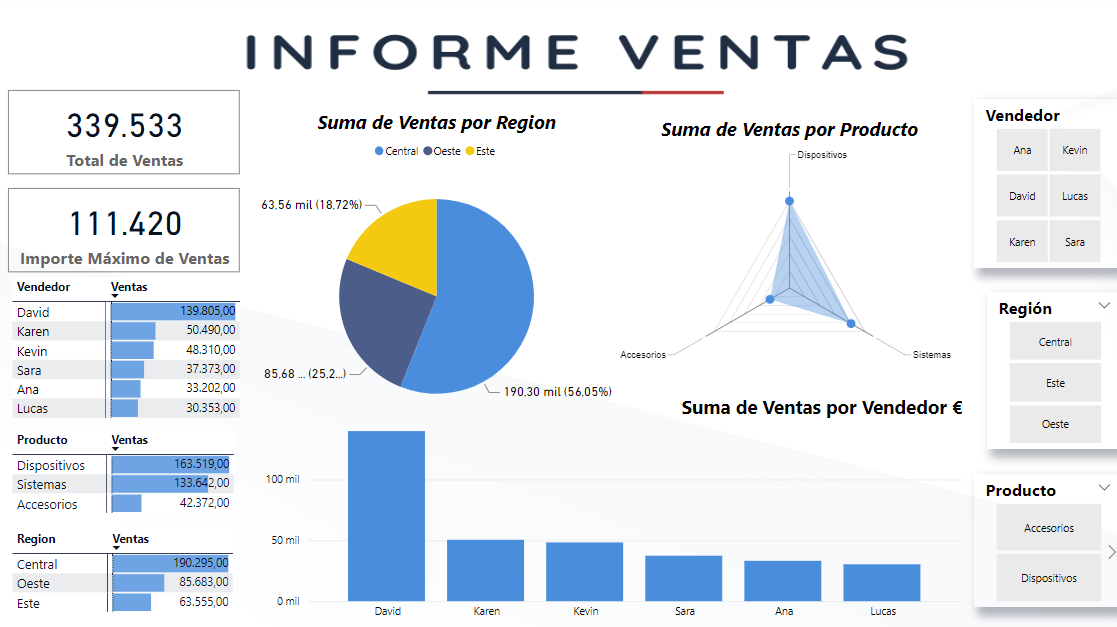

What the dashboard file says about the page in this screenshot:
{"tool":"powerbi","page":{"name":"InformeVentas","canvas":[1280,720],"ordinal":0},"visuals":[{"type":"pivotTable","fields":{"Rows":["Ventas_registro.Producto"],"Values":["Sum(Ventas_registro.Ventas)"]},"box":[11,490.3,264,109.5],"z":0},{"type":"slicer","fields":{"Values":["Ventas_registro.Vendedor"]},"box":[1111.9,117.3,168.6,184.6],"z":1000},{"type":"slicer","fields":{"Values":["Ventas_registro.Producto"]},"box":[1111.9,544.6,168.6,151.5],"z":2000},{"type":"slicer","fields":{"Values":["Ventas_registro.Region"]},"box":[1126.7,337.2,153.8,178.9],"z":3000},{"type":"pivotTable","fields":{"Values":["Sum(Ventas_registro.Ventas)"],"Rows":["Ventas_registro.Region"]},"box":[11,602.3,264,108.3],"z":4000},{"type":"pivotTable","fields":{"Values":["Sum(Ventas_registro.Ventas)"],"Rows":["Ventas_registro.Vendedor"]},"box":[11,315.1,272.5,175.2],"z":5000},{"type":"card","fields":{"Values":["Sum(Ventas_registro.Ventas)"]},"box":[11,107.1,264,96.1],"z":6000},{"type":"card","fields":{"Values":["Max(Ventas_registro.Ventas)"]},"box":[11,219,264,96.1],"z":7000},{"type":"clusteredColumnChart","title":"Suma de Ventas por Vendedor €","fields":{"Category":["Ventas_registro.Vendedor"],"Y":["Sum(Ventas_registro.Ventas)"]},"box":[299.3,453.8,804.3,266.5],"z":8000},{"type":"pieChart","fields":{"Y":["Sum(Ventas_registro.Ventas)"],"Category":["Ventas_registro.Region"]},"box":[283.5,129,431.9,371.1],"z":9000},{"type":"RadarChart1446119667547","fields":{"Category":["Ventas_registro.Producto"],"Y":["Sum(Ventas_registro.Ventas)"]},"box":[676.5,136.3,450.2,363.8],"z":10000}]}

Visuals, with their boxes in screenshot pixels (x1, y1, x2, y2), scaled from the page's 1280x720 canvas onto the 1117x627 screenshot:
pivotTable - Ventas_registro.Producto x Sum(Ventas_registro.Ventas): select_region(10, 427, 240, 522)
slicer - Ventas_registro.Vendedor: select_region(970, 102, 1116, 263)
slicer - Ventas_registro.Producto: select_region(970, 474, 1116, 606)
slicer - Ventas_registro.Region: select_region(983, 294, 1116, 449)
pivotTable - Sum(Ventas_registro.Ventas) x Ventas_registro.Region: select_region(10, 525, 240, 619)
pivotTable - Sum(Ventas_registro.Ventas) x Ventas_registro.Vendedor: select_region(10, 274, 247, 427)
card - Sum(Ventas_registro.Ventas): select_region(10, 93, 240, 177)
card - Max(Ventas_registro.Ventas): select_region(10, 191, 240, 274)
"Suma de Ventas por Vendedor €" clusteredColumnChart: select_region(261, 395, 963, 626)
pieChart - Sum(Ventas_registro.Ventas) x Ventas_registro.Region: select_region(247, 112, 624, 436)
RadarChart1446119667547 - Ventas_registro.Producto x Sum(Ventas_registro.Ventas): select_region(590, 119, 983, 436)
